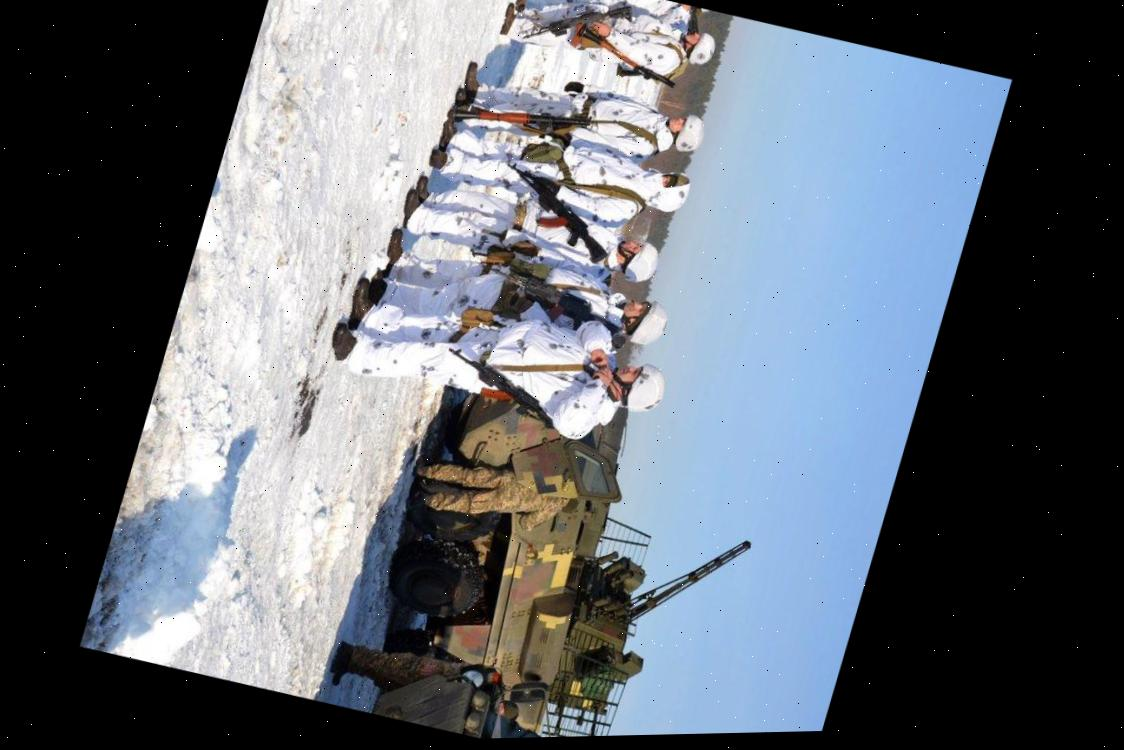tank: (330, 365, 694, 715), (316, 641, 611, 742)
